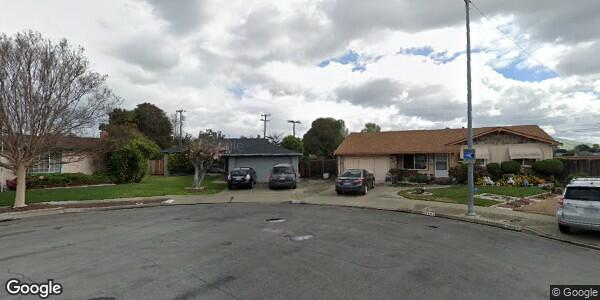Steel_Pole: (461, 1, 478, 216)
